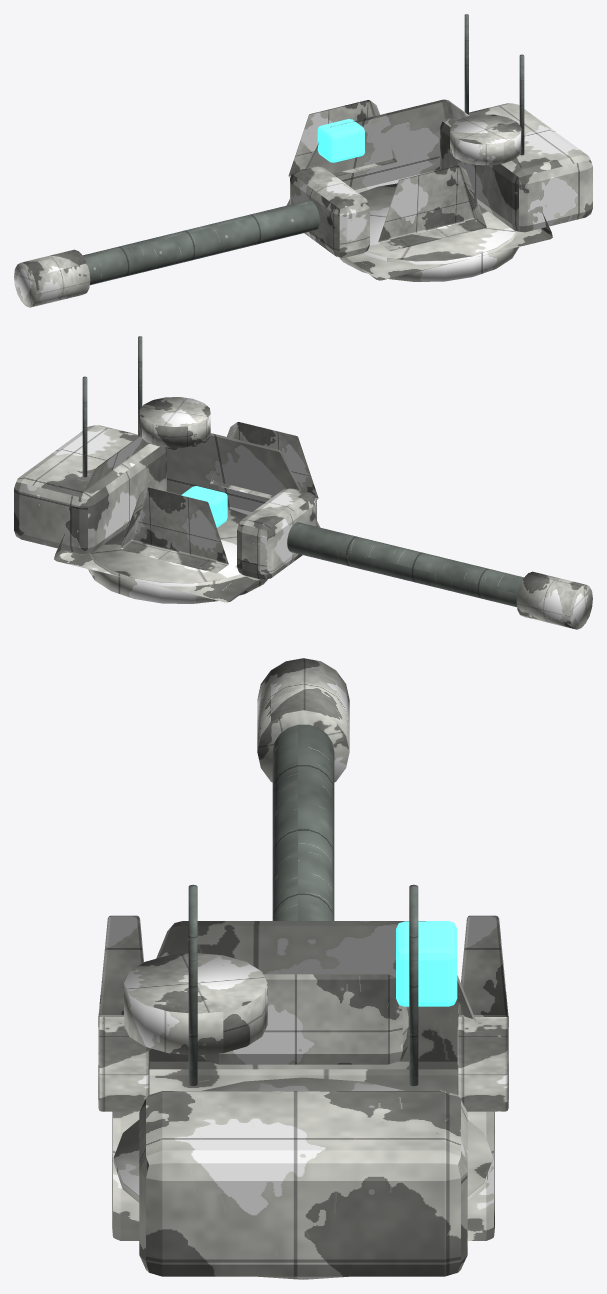
File: heavy_tank_turret.glb
3 views of the same model, one above another, from view 1: azimuth 30°, elevation 25°; view 2: azimuth 150°, elevation 25°; view 3: azimuth 270°, elevation 25° (orthographic). The views are drawn at different scales.
Parts seen in each view (by area): view 1: heavy_tank_turret_team_accent, heavy_tank_turret_team_primary, heavy_tank_turret_factory_metal, heavy_tank_turret_glass_emissive; view 2: heavy_tank_turret_team_accent, heavy_tank_turret_team_primary, heavy_tank_turret_factory_metal, heavy_tank_turret_glass_emissive; view 3: heavy_tank_turret_team_primary, heavy_tank_turret_team_accent, heavy_tank_turret_factory_metal, heavy_tank_turret_glass_emissive.
Boxes of the visible parts, x1,y1,x2,y2 form: heavy_tank_turret_team_accent: (14, 100, 521, 307); heavy_tank_turret_team_primary: (286, 99, 592, 280); heavy_tank_turret_factory_metal: (83, 14, 524, 285); heavy_tank_turret_glass_emissive: (317, 119, 364, 162); heavy_tank_turret_team_accent: (87, 397, 592, 629); heavy_tank_turret_team_primary: (14, 425, 320, 602); heavy_tank_turret_factory_metal: (82, 336, 523, 607); heavy_tank_turret_glass_emissive: (181, 486, 227, 527); heavy_tank_turret_team_primary: (112, 921, 494, 1276); heavy_tank_turret_team_accent: (98, 658, 508, 1279); heavy_tank_turret_factory_metal: (188, 724, 418, 1086); heavy_tank_turret_glass_emissive: (396, 921, 457, 1006).
Bounding box in the file's own units: 4.72 × 1.61 × 1.58.
4 materials, 3 textured.
